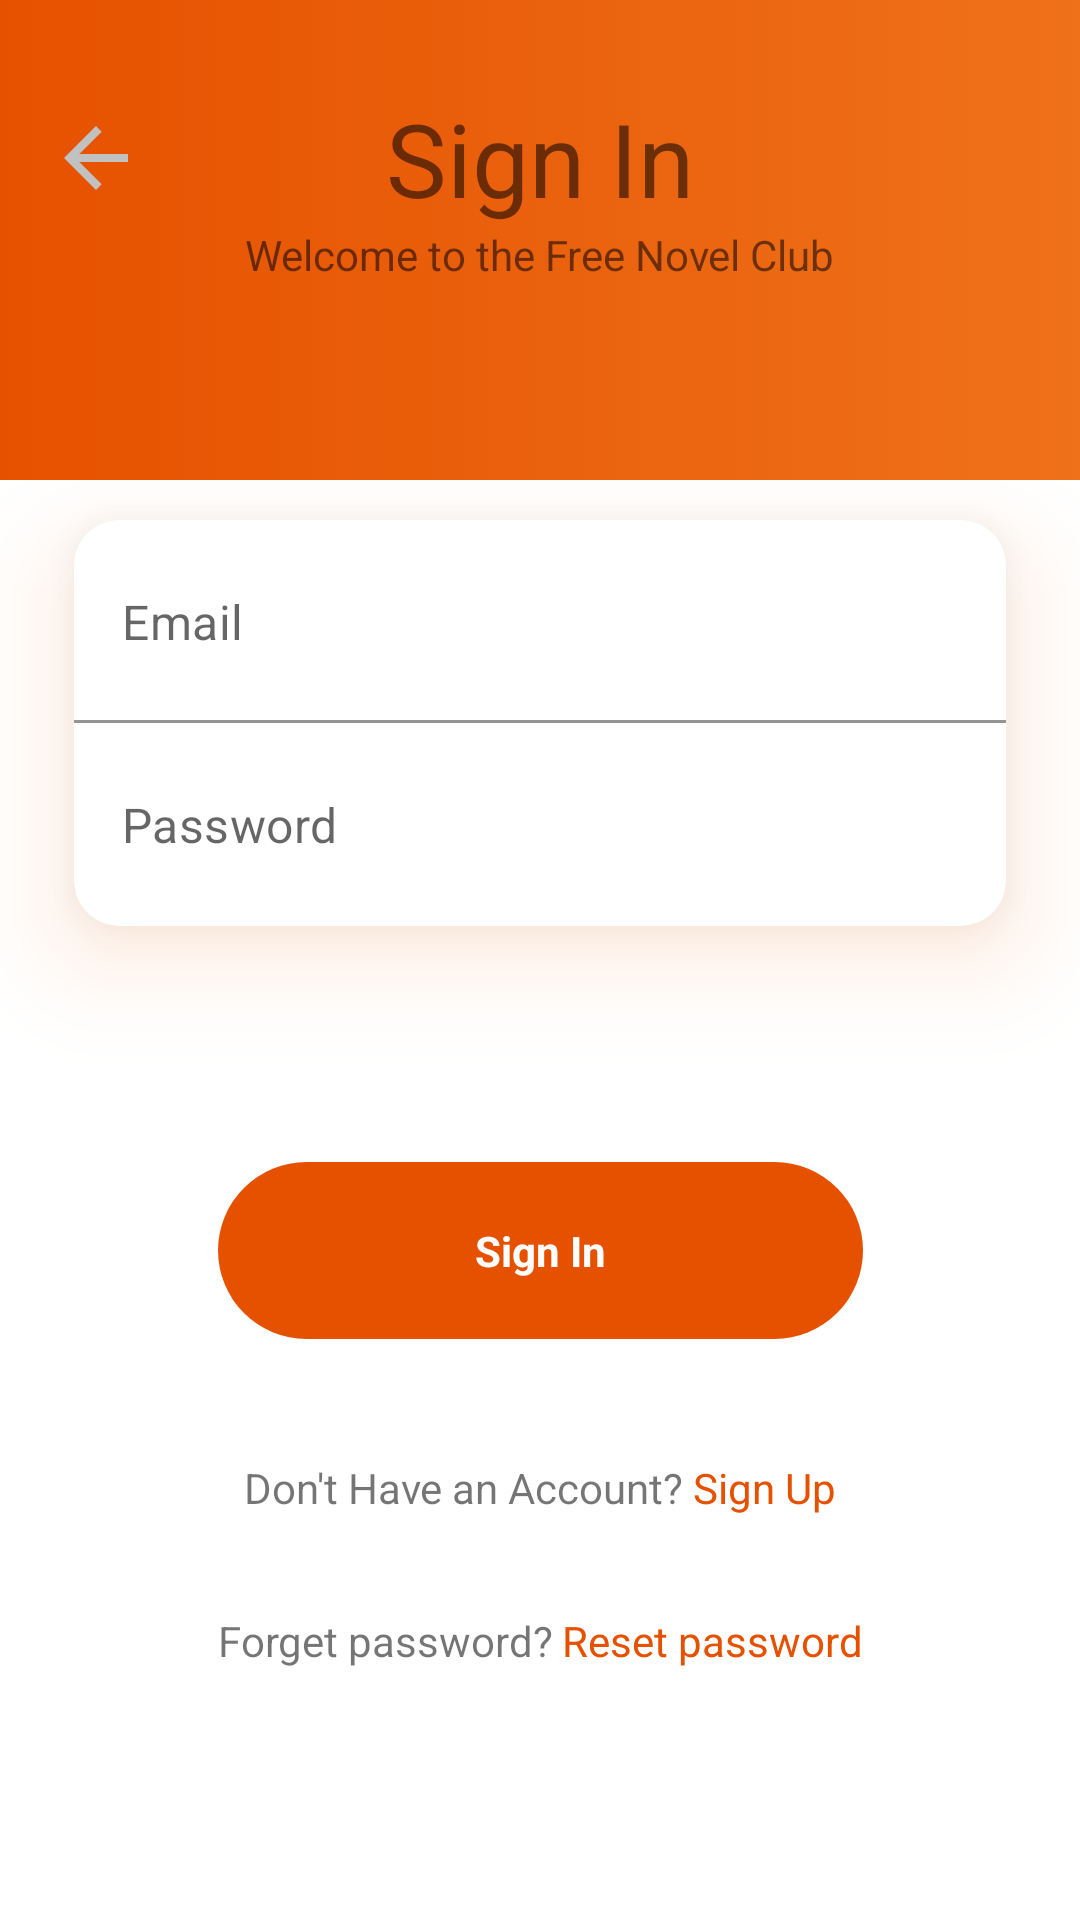

Icons on this 1080*1920 Android screen, each with the point to tap as point (x, y):
arrow back: point (96, 158)
